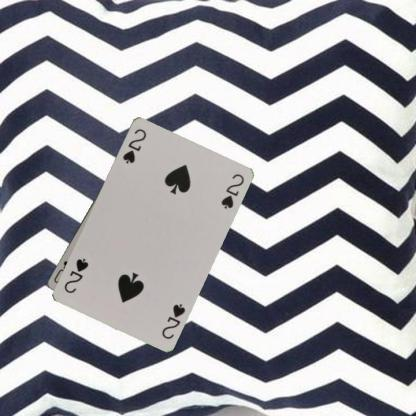2s: (120, 125, 148, 165), (159, 300, 187, 340)
